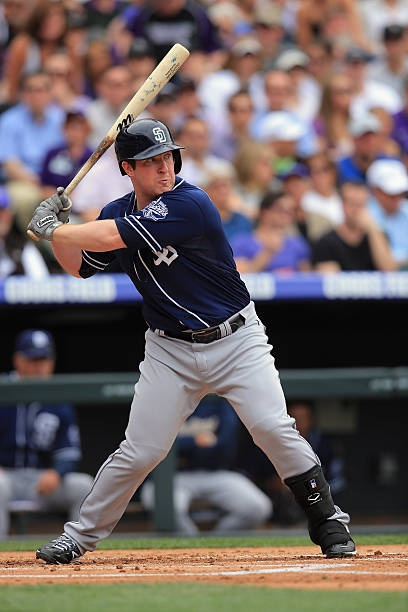bita: (47, 48, 186, 213)
